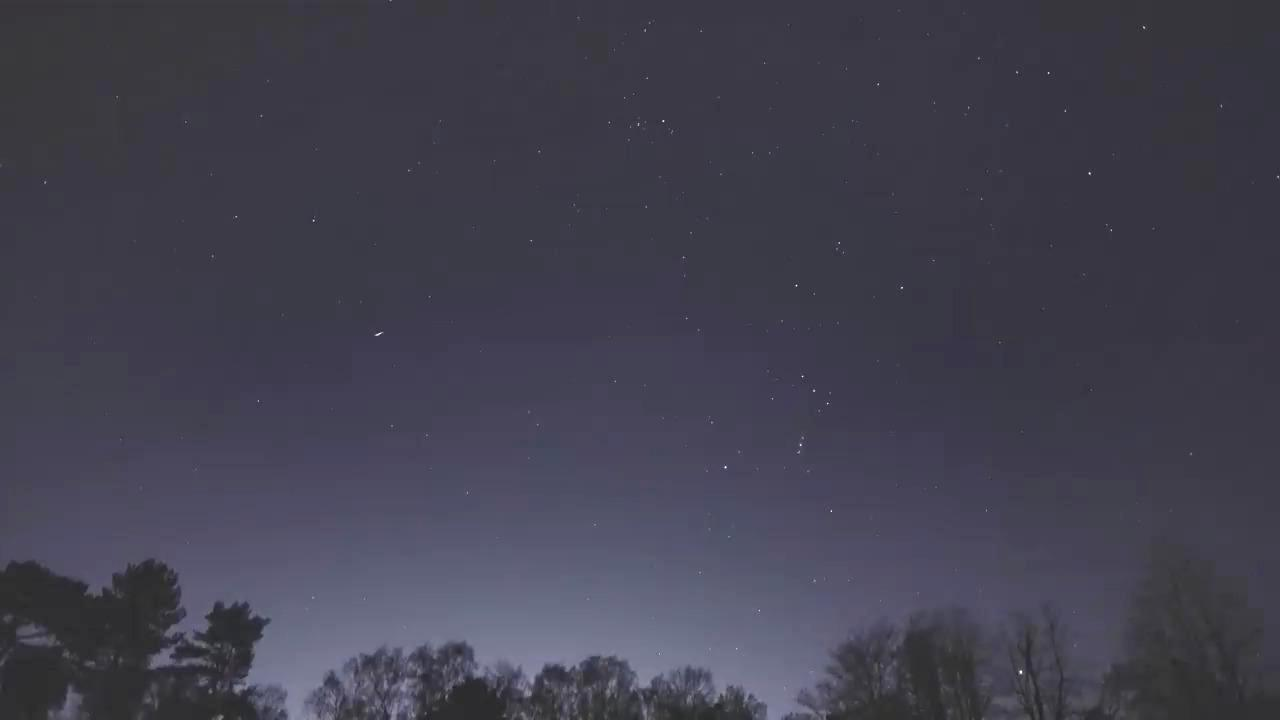meteorite: (359, 324, 397, 341)
